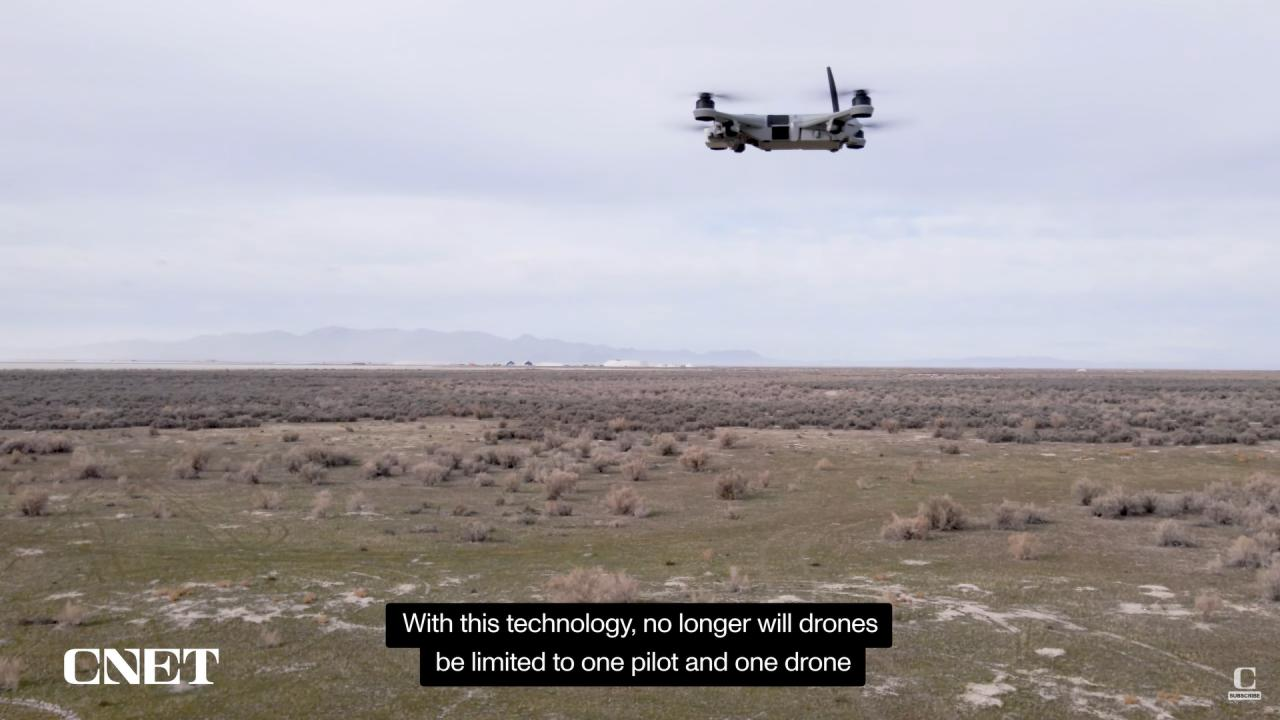Drone: (642, 47, 926, 176)
